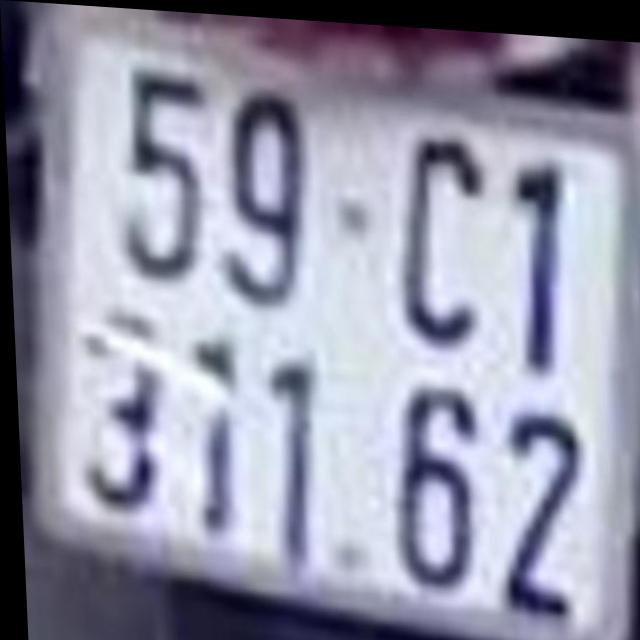1: (259, 345, 322, 567), (184, 325, 245, 531), (515, 162, 564, 368)
2: (490, 400, 579, 617)
3: (77, 309, 162, 504)
5: (122, 63, 200, 276)
6: (393, 369, 475, 576)
9: (222, 88, 303, 299)
C: (401, 129, 486, 345)
